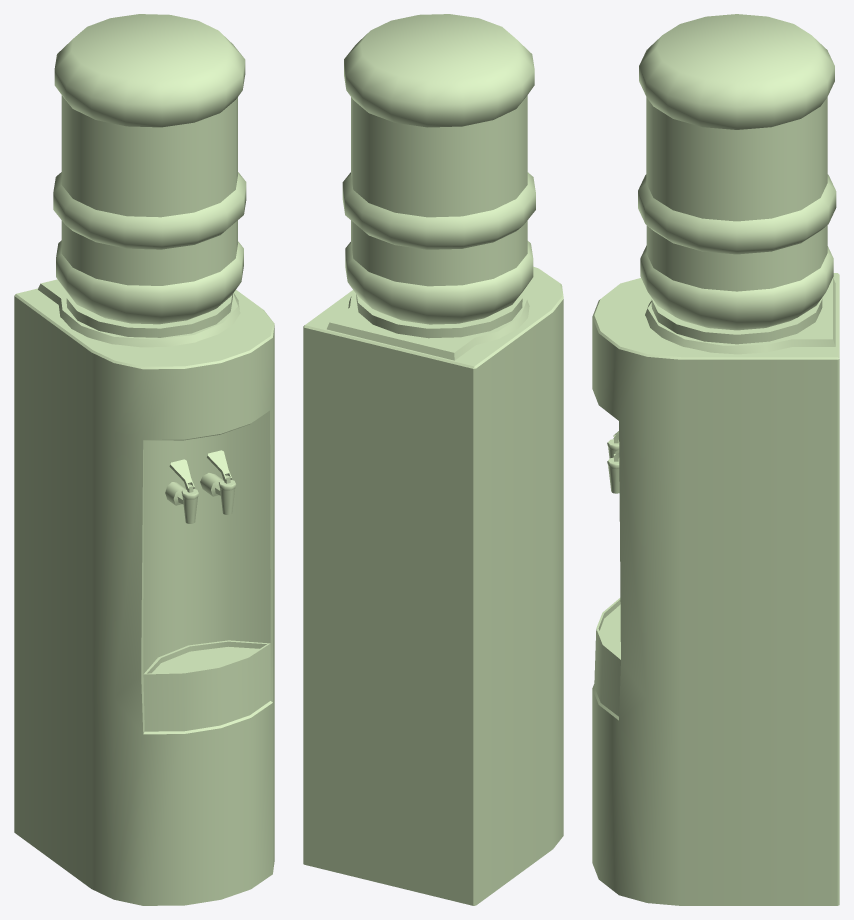
File: water_cooler.fbx
3 renders of one model, left to right at view 1: azimuth 30°, elevation 25°; view 2: azimuth 150°, elevation 25°; view 3: azimuth 270°, elevation 25°, orthographic.
Visible parts, largest first — view 1: water_cooler; view 2: water_cooler; view 3: water_cooler.
Part boxes in pixels (x1=…): water_cooler: x1=14, y1=14, x2=274, y2=905; water_cooler: x1=303, y1=14, x2=563, y2=905; water_cooler: x1=592, y1=14, x2=839, y2=905.
Bounding box in the file's own units: 1486 × 6586 × 1811.
